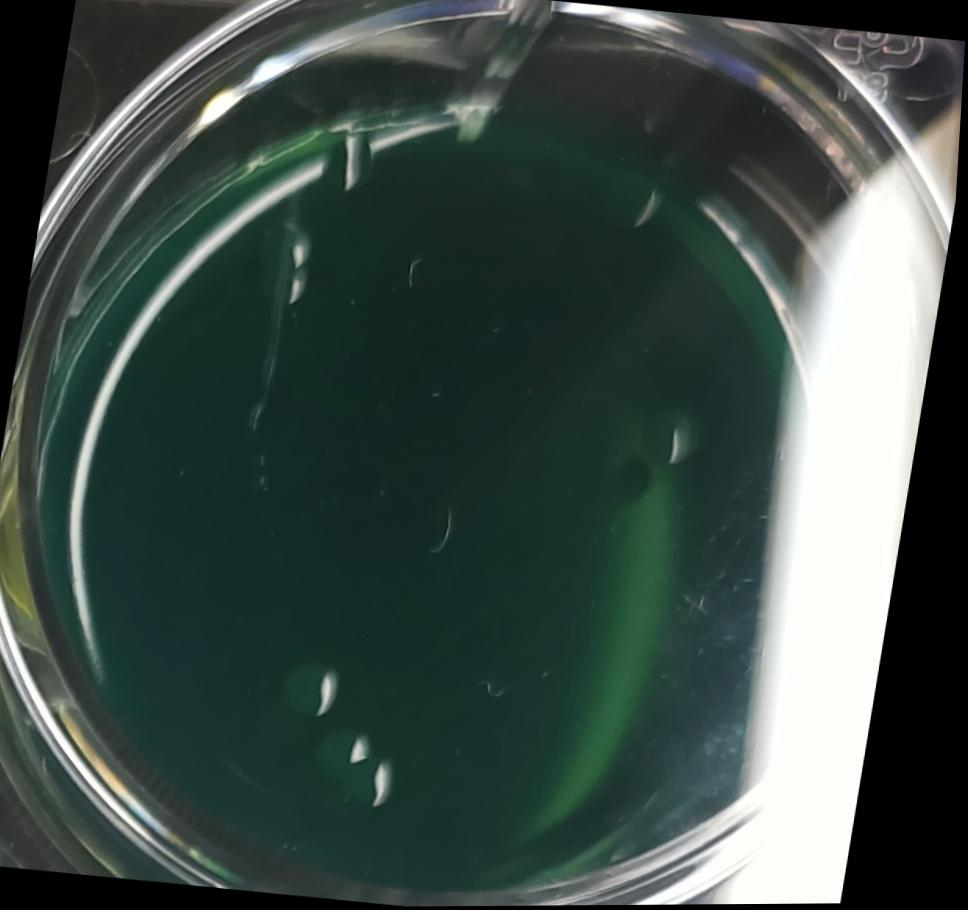vproteolyticus: (308, 724, 411, 824), (249, 218, 328, 315), (278, 656, 354, 725)
